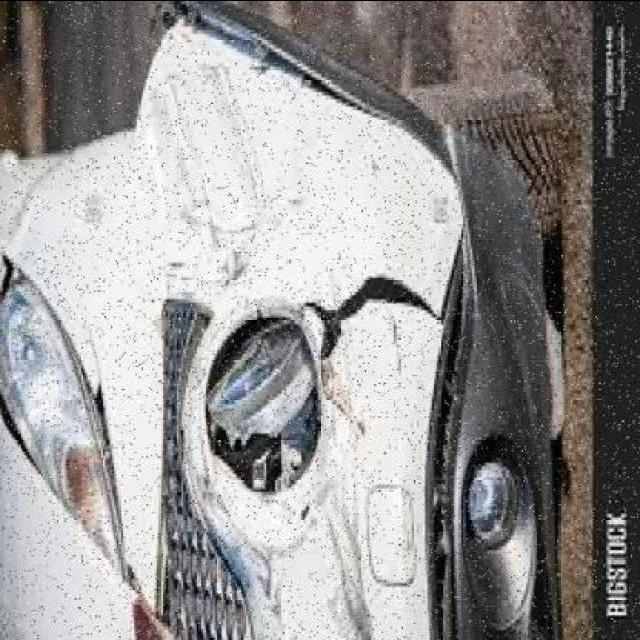front-bumper-dent: (129, 27, 480, 638)
